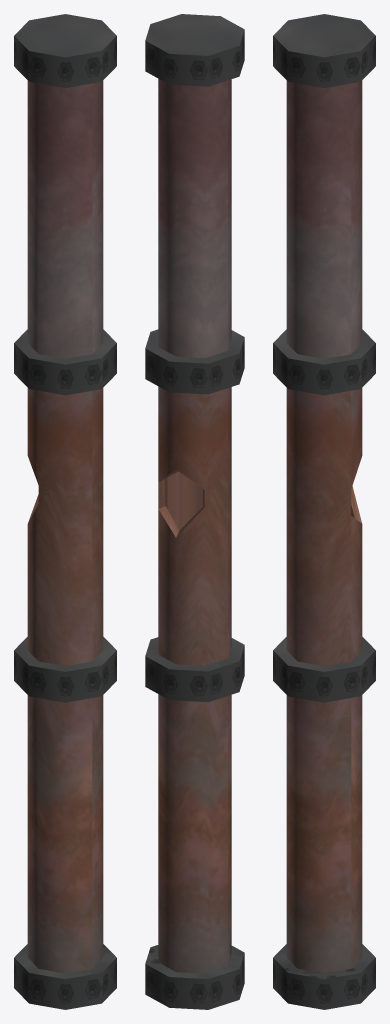
The model's file is Pipe_Oxygen_Broken.obj.
3 views of the same model, side by side, from view 1: azimuth 90°, elevation 25°; view 2: azimuth 150°, elevation 25°; view 3: azimuth 270°, elevation 25° (orthographic).
Visible parts, largest first — view 1: Circle.005; view 2: Circle.005; view 3: Circle.005.
Part boxes in pixels (box(x1,y1,x2,y2)): Circle.005: box(14, 14, 116, 1009); Circle.005: box(145, 14, 244, 1009); Circle.005: box(273, 14, 375, 1009).
Size of the model in its own units: 0.33 by 3.38 by 0.33.
2 materials, 2 textured.
